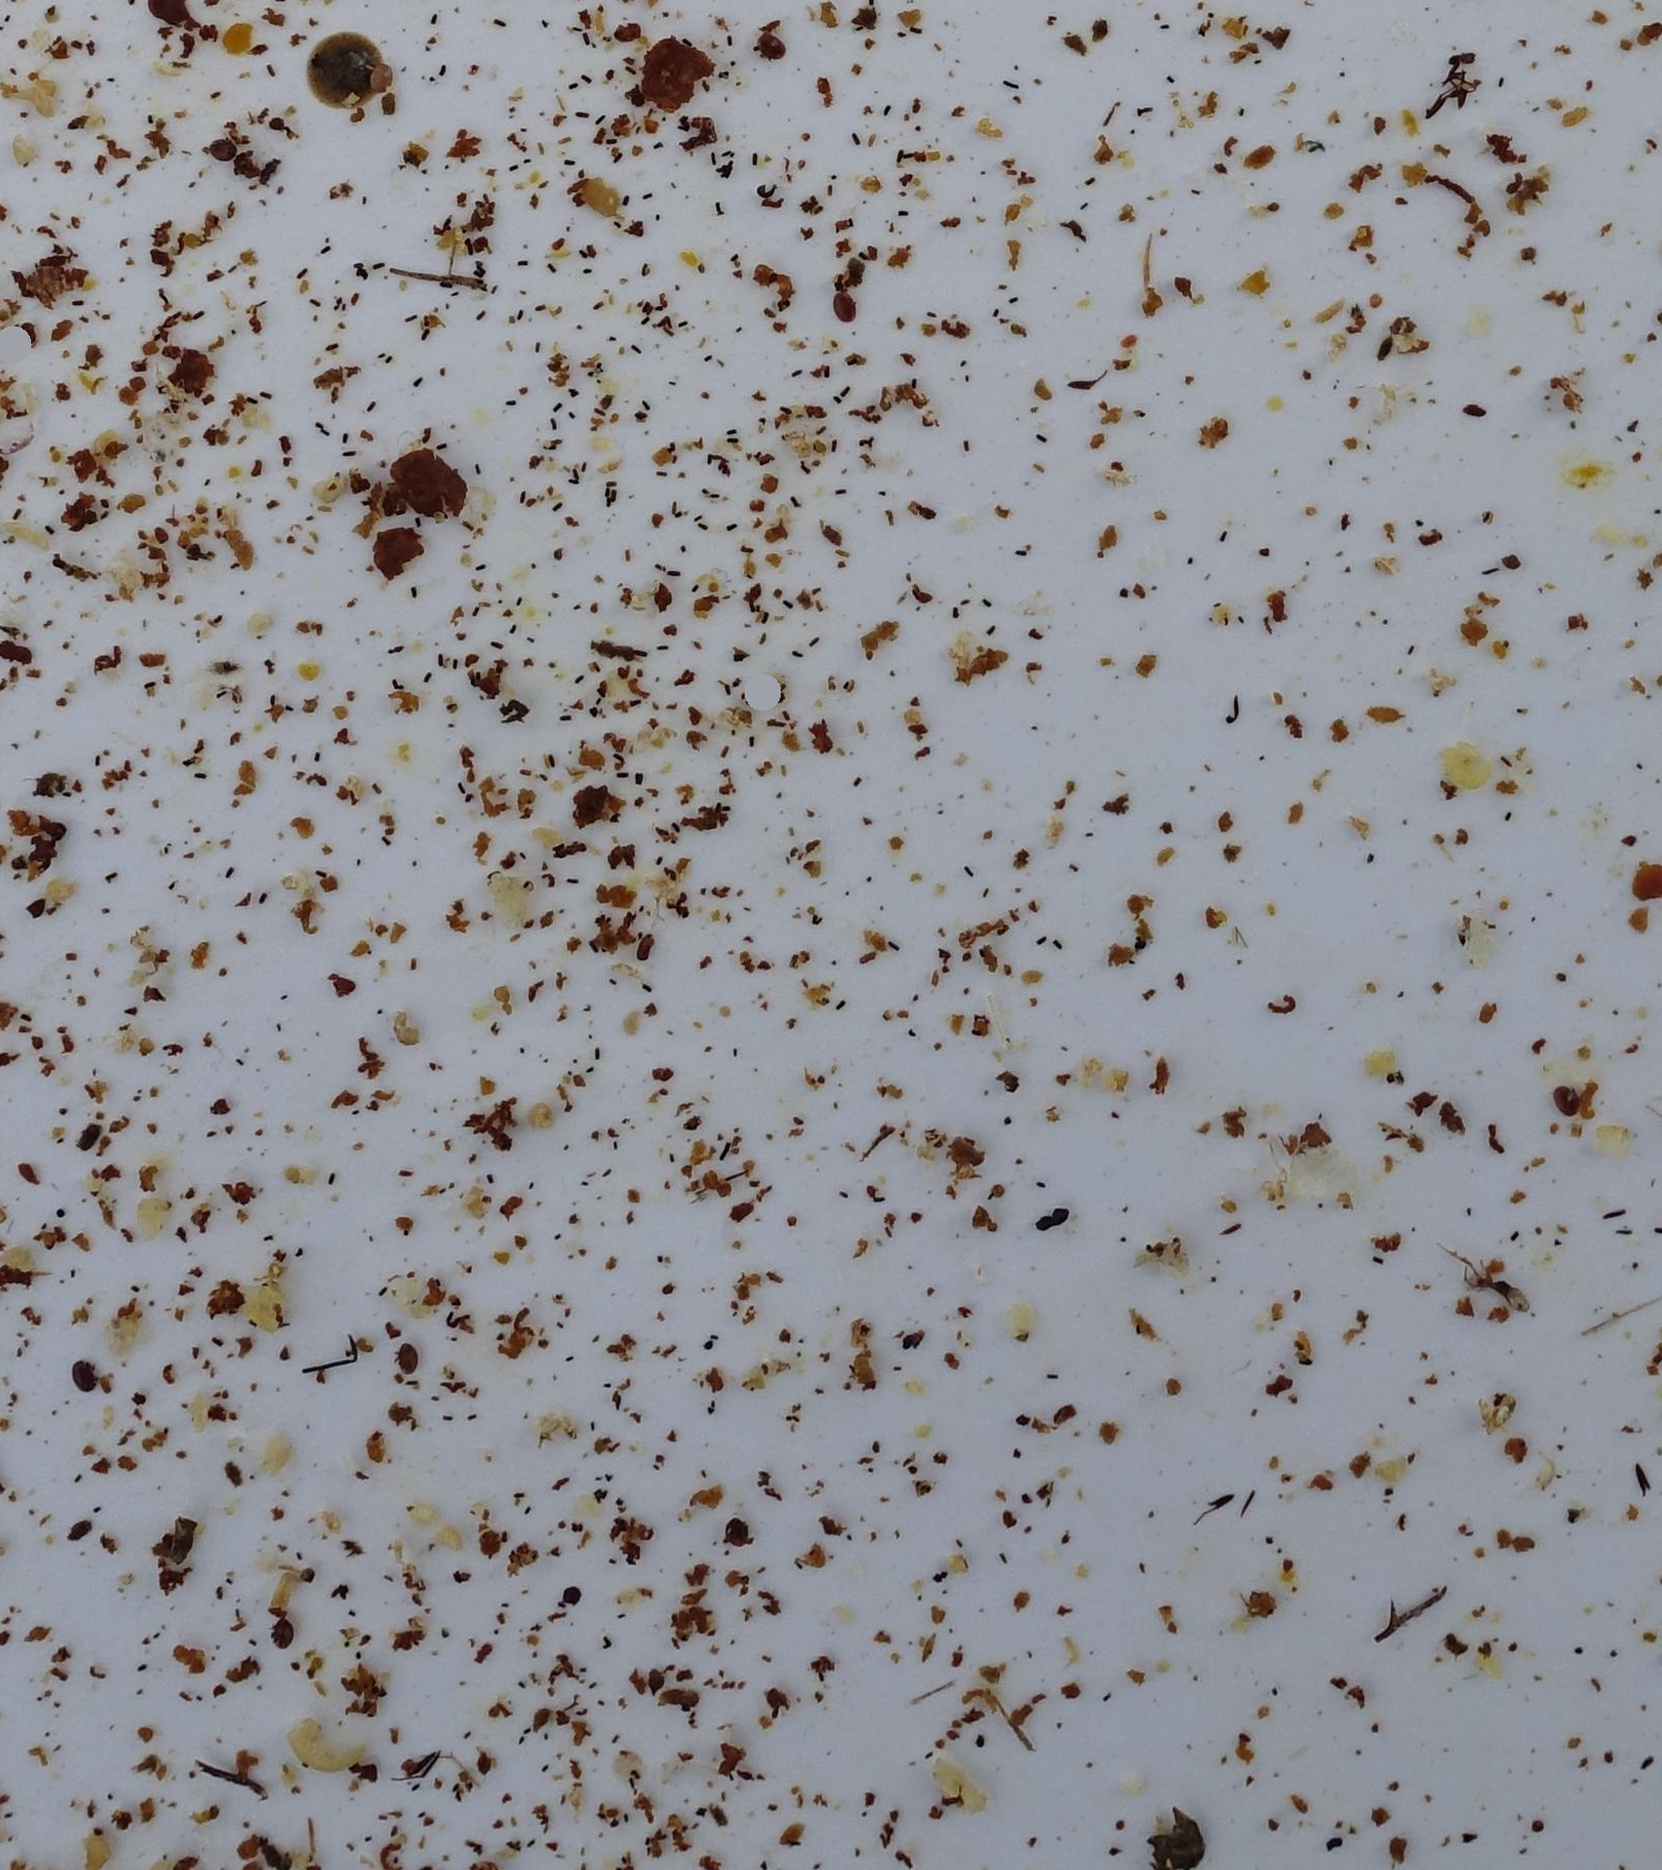Varroa: (265, 1615, 316, 1662), (66, 1354, 106, 1394), (1550, 1078, 1588, 1119), (821, 284, 861, 322), (390, 1334, 428, 1374), (717, 1511, 757, 1549), (751, 26, 789, 66), (209, 127, 249, 162)
